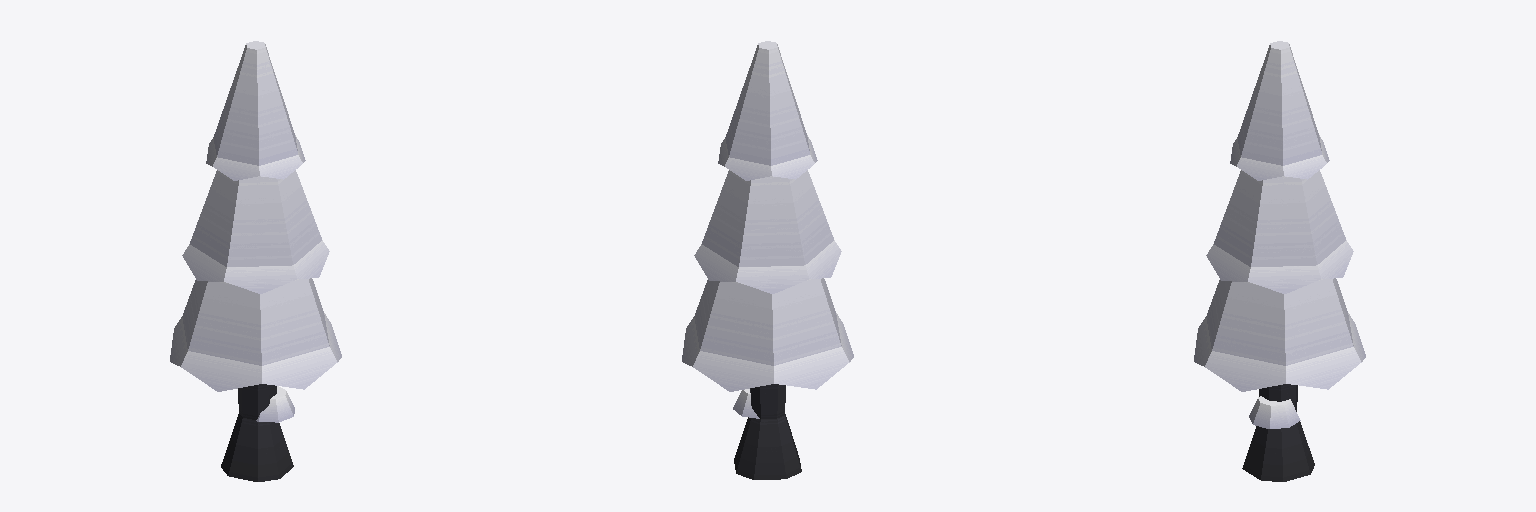
The picture shows the model from 3 angles: view 1: azimuth 30°, elevation 25°; view 2: azimuth 150°, elevation 25°; view 3: azimuth 270°, elevation 25°; orthographic projection.
Visible parts, largest first — view 1: tree.027; view 2: tree.027; view 3: tree.027.
Boxes of the visible parts, <box> form: tree.027: <box>170,41,341,481</box>; tree.027: <box>682,41,853,479</box>; tree.027: <box>1194,41,1365,481</box>.
Size of the model in its own units: 1.36 by 3.47 by 1.29.
Materials: 1 (1 with a texture image).